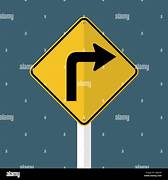right: (27, 17, 140, 127)
